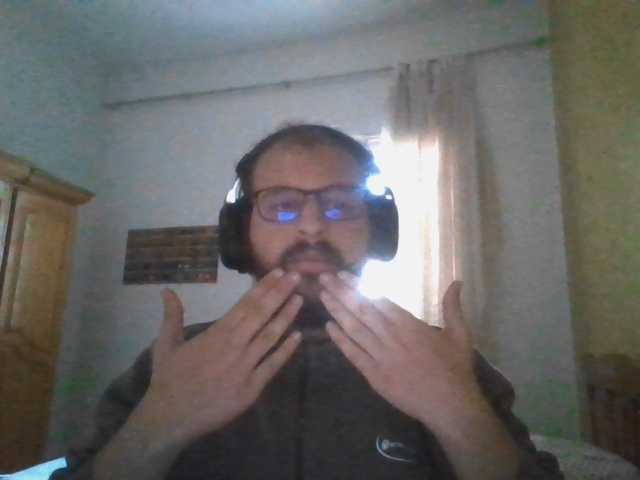Thank You: (156, 274, 472, 422)
